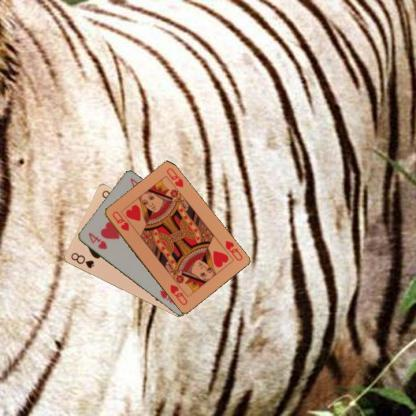4h: (86, 229, 108, 251)
8s: (68, 250, 96, 270)
Qh: (222, 238, 244, 262), (109, 209, 130, 232)
